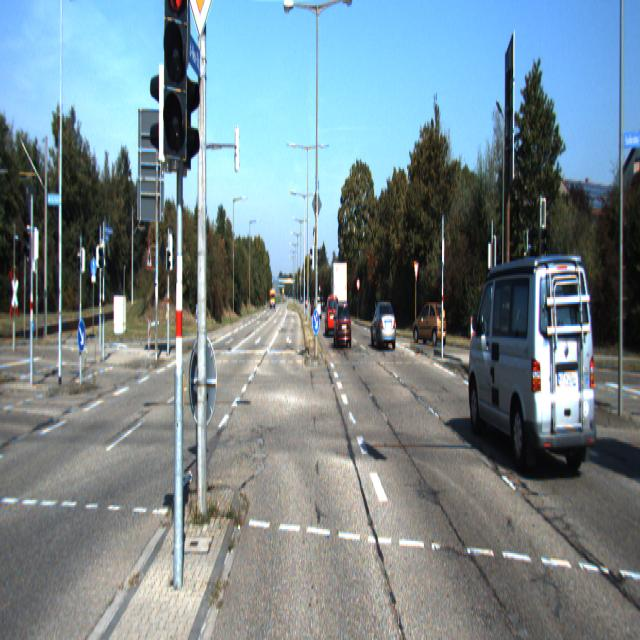Car: (412, 299, 447, 346), (371, 300, 396, 351), (334, 302, 352, 350), (324, 294, 340, 338)
DontCare: (293, 285, 322, 327), (266, 278, 278, 316)
Truck: (330, 260, 347, 320)
Van: (467, 240, 599, 486)
